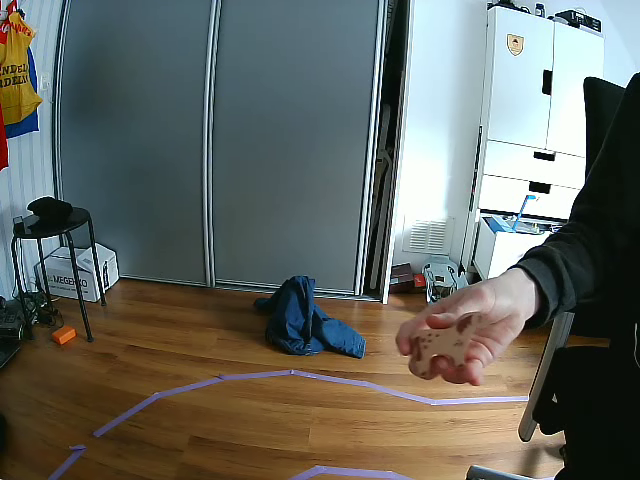paard: (415, 309, 489, 373)
